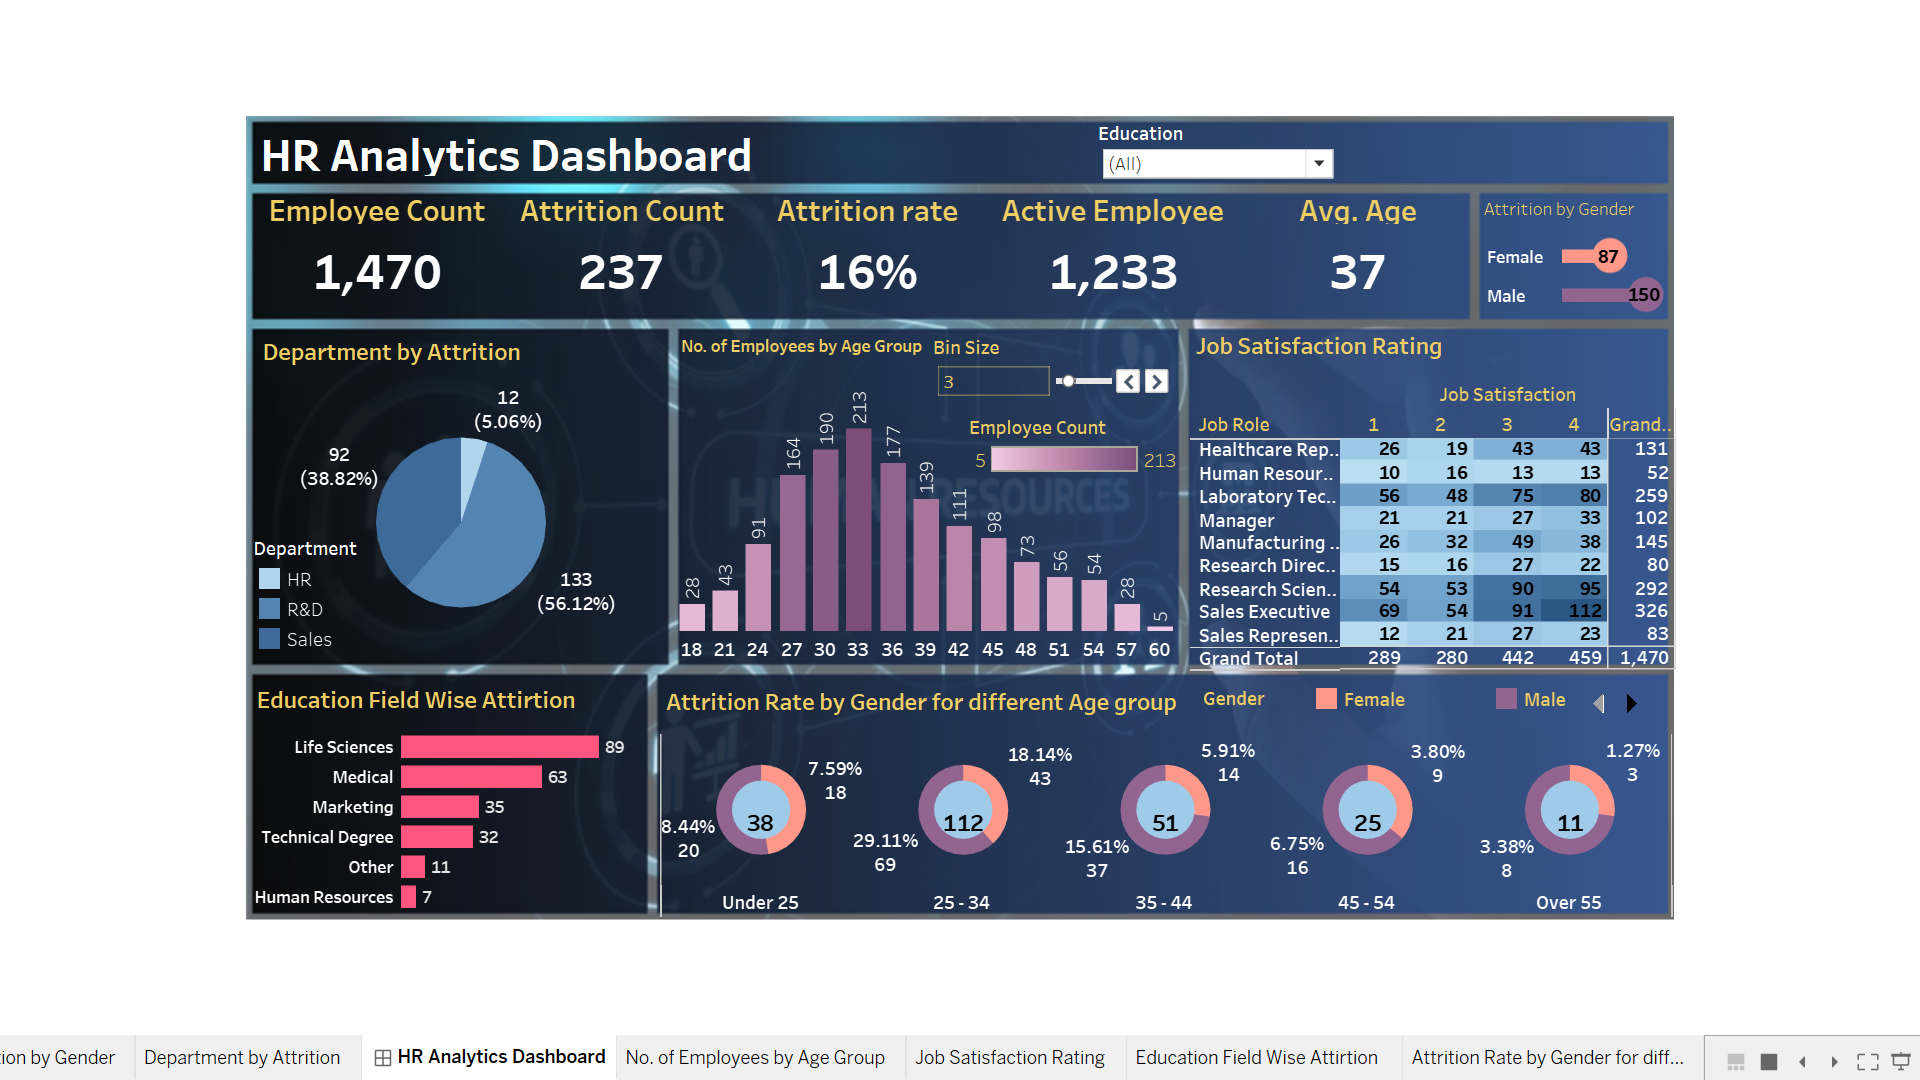

Layout of this report page (visuals, bound fields, positions):
{"tool":"tableau","page":{"name":"HR Analytics Dashboard","canvas":[1020,560],"ordinal":0},"visuals":[{"type":"image","param":"Image/HR background.pptx.png","box":[8,8,1004,544]},{"type":"filter","title":"Department by Attrition","param":"[federated.1s8ofpy18lxje71g4q0sj125mcwy].[none:Education:nk]","box":[602,15,160,41]},{"type":"text","box":[41,22,370,30]},{"type":"worksheet","title":"Attrition by Gender","mark":"Automatic","rows":["Gender"],"cols":["Calculation_1208653572734619648","Calculation_1208653572734619648"],"box":[855,62,126,83]},{"type":"worksheet","title":"KPI","mark":"Automatic","box":[39,64,818,82]},{"type":"worksheet","title":"Job Satisfaction Rating","mark":"Square","rows":["Job Role"],"cols":["Job Satisfaction"],"box":[663,151,324,231]},{"type":"worksheet","title":"No. of Employees by Age Group","mark":"Automatic","rows":["Employee Count"],"cols":["Age (bin)"],"box":[320,154,335,223]},{"type":"worksheet","title":"Department by Attrition","mark":"Pie","box":[41,155,272,222]},{"type":"parameter","param":"[Parameters].[Parameter 1]","box":[492,158,160,53]},{"type":"legend","title":"No. of Employees by Age Group","param":"[federated.1s8ofpy18lxje71g4q0sj125mcwy].[sum:Employee Count:qk]","box":[516,211,143,40]},{"type":"legend","title":"Department by Attrition","param":"[federated.1s8ofpy18lxje71g4q0sj125mcwy].[none:Department:nk]","box":[39,292,88,85]},{"type":"worksheet","title":"Education Field Wise Attirtion","mark":"Automatic","rows":["Education Field"],"cols":["Calculation_1208653572734619648"],"box":[37,387,262,156]},{"type":"worksheet","title":"Attrition Rate by Gender for different Age group","mark":"Pie","rows":["Calculation_1208653573125304325","Calculation_1208653573125304325"],"cols":["CF_age band"],"box":[310,388,675,159]},{"type":"legend","title":"Attrition Rate by Gender for different Age group","param":"[federated.1s8ofpy18lxje71g4q0sj125mcwy].[none:Gender:nk]","box":[672,390,298,26]}]}

Visuals, with their boxes on the page's 1020x560 design canvas (x1, y1, x2, y2). These are canvas units, not pixel positions in the 1920x1080 screenshot, which may show the page scaled, cropped or inside an application window:
image: bbox=[8, 8, 1012, 552]
"Department by Attrition" filter: bbox=[602, 15, 762, 56]
text: bbox=[41, 22, 411, 52]
"Attrition by Gender" worksheet: bbox=[855, 62, 981, 145]
"KPI" worksheet: bbox=[39, 64, 857, 146]
"Job Satisfaction Rating" worksheet (Square marks): bbox=[663, 151, 987, 382]
"No. of Employees by Age Group" worksheet: bbox=[320, 154, 655, 377]
"Department by Attrition" worksheet (Pie marks): bbox=[41, 155, 313, 377]
parameter: bbox=[492, 158, 652, 211]
"No. of Employees by Age Group" legend: bbox=[516, 211, 659, 251]
"Department by Attrition" legend: bbox=[39, 292, 127, 377]
"Education Field Wise Attirtion" worksheet: bbox=[37, 387, 299, 543]
"Attrition Rate by Gender for different Age group" worksheet (Pie marks): bbox=[310, 388, 985, 547]
"Attrition Rate by Gender for different Age group" legend: bbox=[672, 390, 970, 416]
